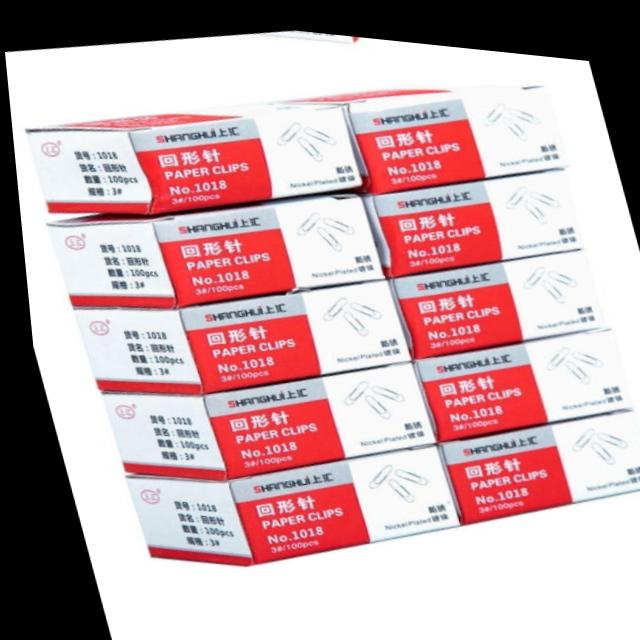box: (114, 433, 454, 560), (92, 351, 429, 476), (46, 182, 382, 307), (69, 271, 404, 391), (23, 96, 362, 213), (273, 73, 564, 183), (404, 315, 623, 435), (381, 236, 600, 352), (431, 394, 640, 514), (358, 154, 576, 269)
